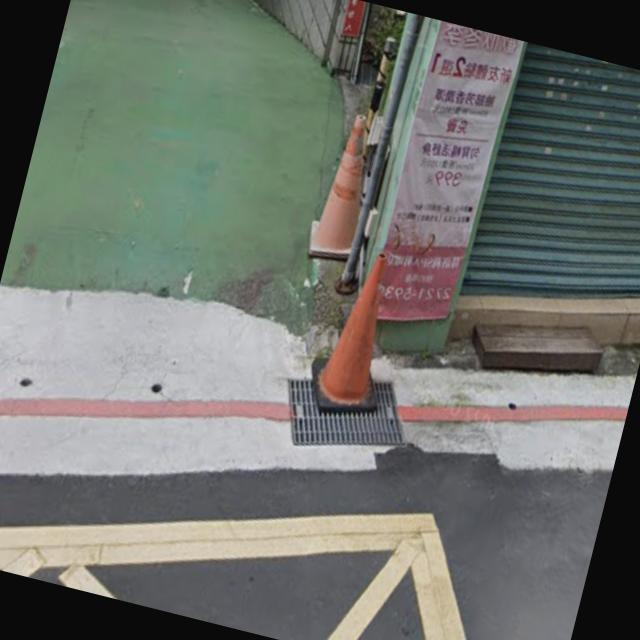cone: (291, 235, 407, 442), (294, 96, 394, 264)
